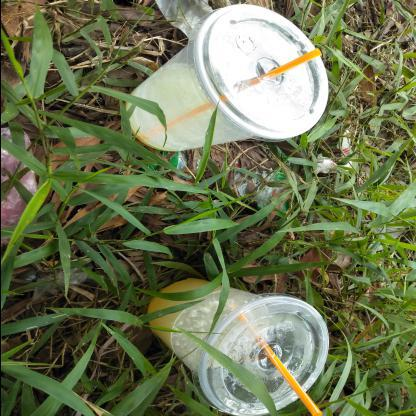plastik: (126, 5, 330, 153), (146, 279, 330, 416)
